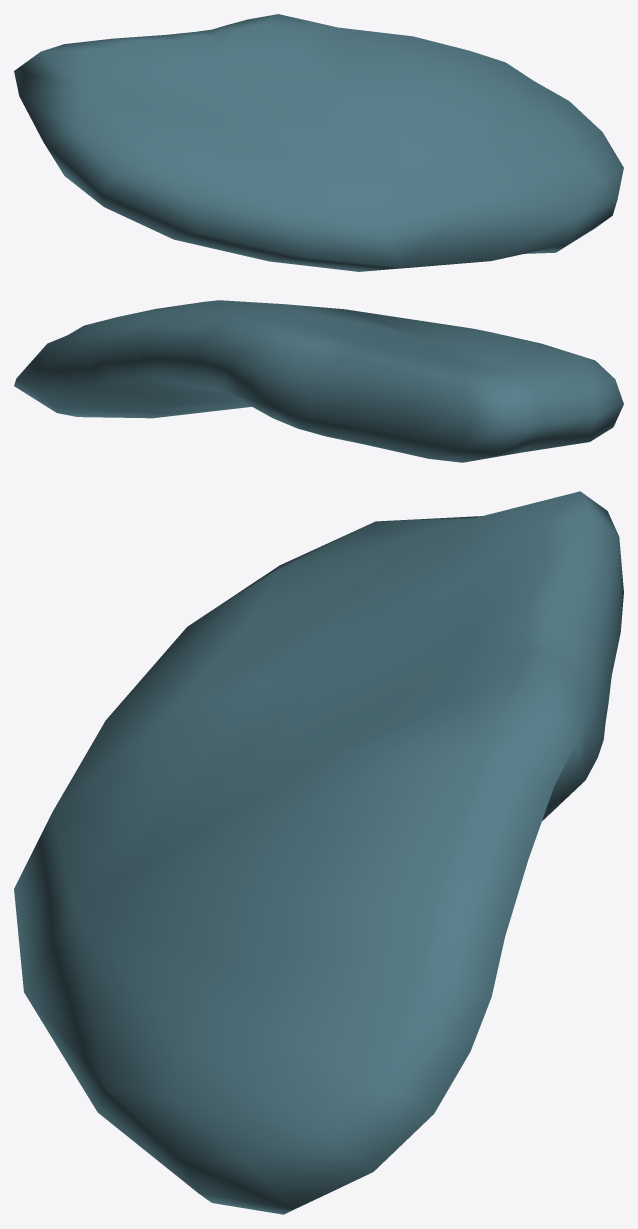
The model's file is Flexor_digitorum_profundus_2nd_finger_distal_phalanx_right.glb.
3 renders of one model, top to bottom at view 1: azimuth 30°, elevation 25°; view 2: azimuth 150°, elevation 25°; view 3: azimuth 270°, elevation 25°, orthographic. The views are drawn at different scales.
Visible parts, largest first — view 1: Flexor_digitorum_profundus_on_distal_phalanx_of_2d_finger.r_; view 2: Flexor_digitorum_profundus_on_distal_phalanx_of_2d_finger.r_; view 3: Flexor_digitorum_profundus_on_distal_phalanx_of_2d_finger.r_.
Boxes of the visible parts, <box> form: Flexor_digitorum_profundus_on_distal_phalanx_of_2d_finger.r_: <box>14,14,623,271</box>; Flexor_digitorum_profundus_on_distal_phalanx_of_2d_finger.r_: <box>14,300,623,462</box>; Flexor_digitorum_profundus_on_distal_phalanx_of_2d_finger.r_: <box>14,491,623,1214</box>.
Size of the model in its own units: 0.00358 by 0.0013 by 0.00208.
